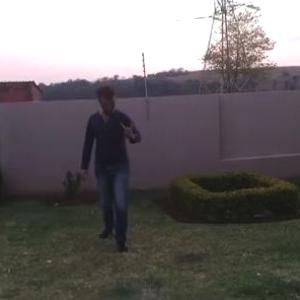takeoff-hand: (115, 115, 140, 144)
